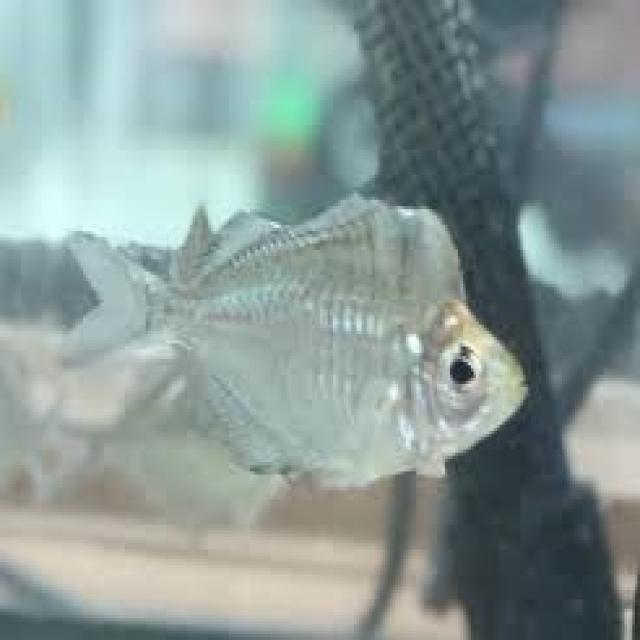Glass-Perchlet: (58, 156, 527, 550)
